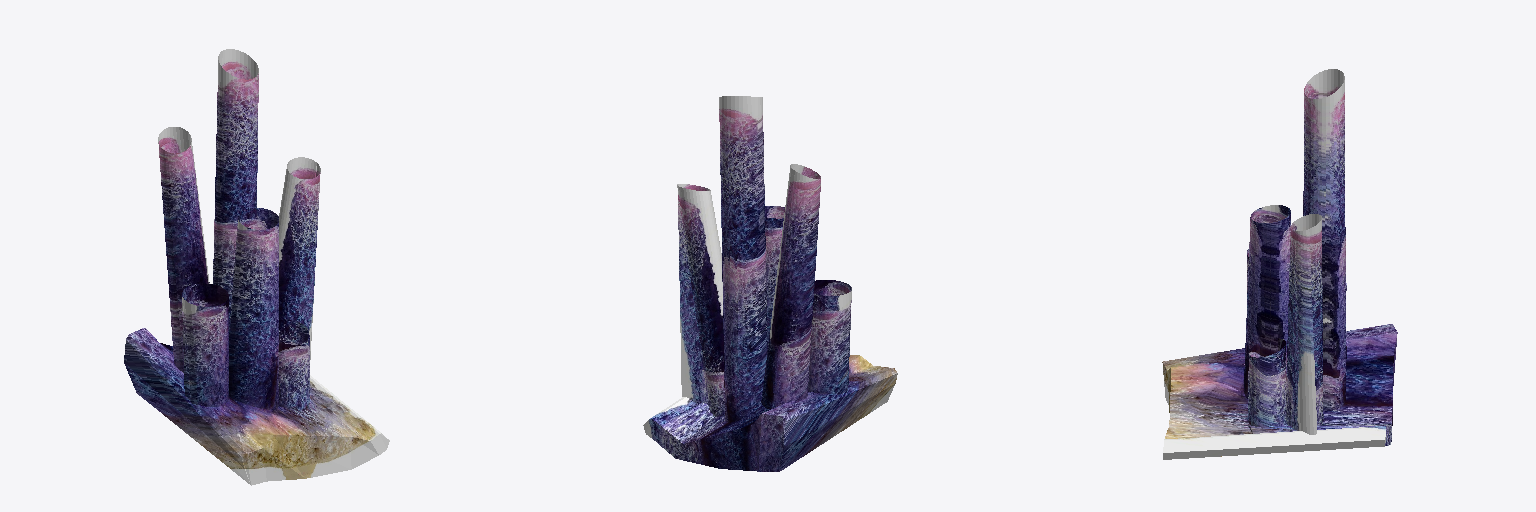
3 views of the same model, side by side, from view 1: azimuth 30°, elevation 25°; view 2: azimuth 150°, elevation 25°; view 3: azimuth 270°, elevation 25° (orthographic).
Visible parts, largest first — view 1: Torus.002; view 2: Torus.002; view 3: Torus.002.
Part boxes in pixels (x1,y1,x2,y2): Torus.002: (124,49,389,485); Torus.002: (643,96,897,471); Torus.002: (1162,69,1397,459).
Size of the model in its own units: 2.02 by 4.65 by 2.71.
1 materials, 1 textured.